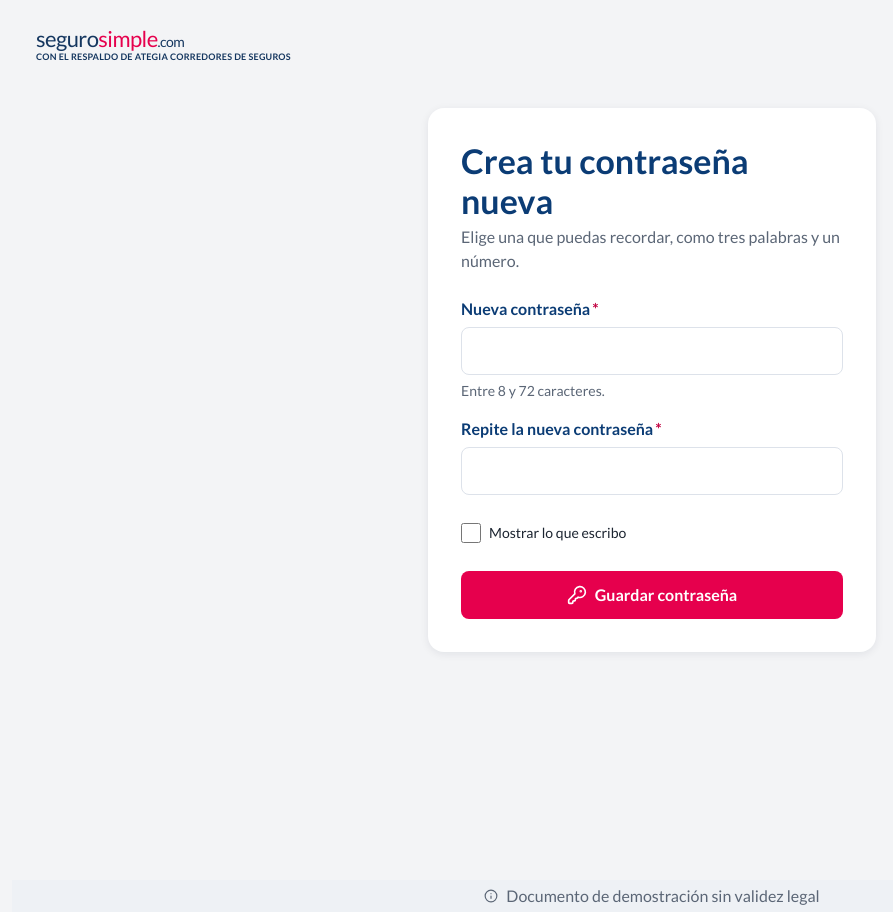
Test: RestablecerPasswordPage › con un enlace bueno pide la contraseña nueva, la guarda y quita las llaves de la dirección
Type "Casa-Verde-Lluvia-26" into the password field labelled "Nueva contraseña*".
click(652, 351); type("Casa-Verde-Lluvia-26")  # box [461, 327, 843, 375]
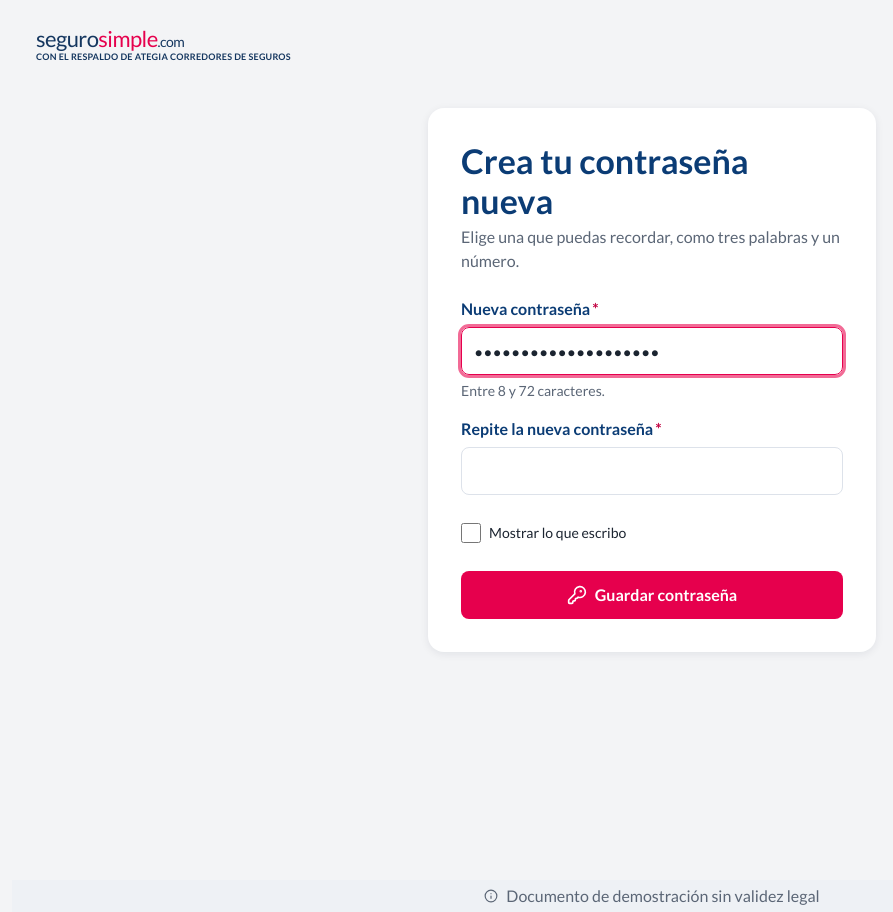
Type "Casa-Verde-Lluvia-26" into the password field labelled "Repite la nueva contraseña*".
click(652, 471); type("Casa-Verde-Lluvia-26")  # box [461, 447, 843, 495]
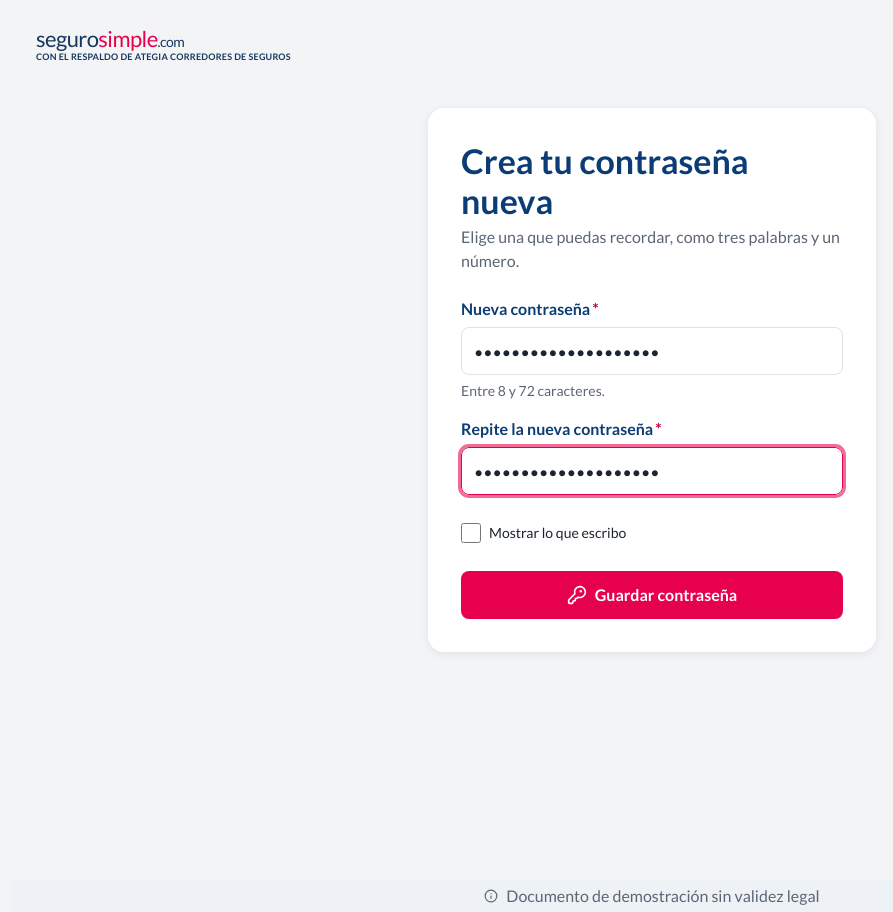
Click the button "Guardar contraseña".
click(652, 595)  # box [461, 571, 843, 619]
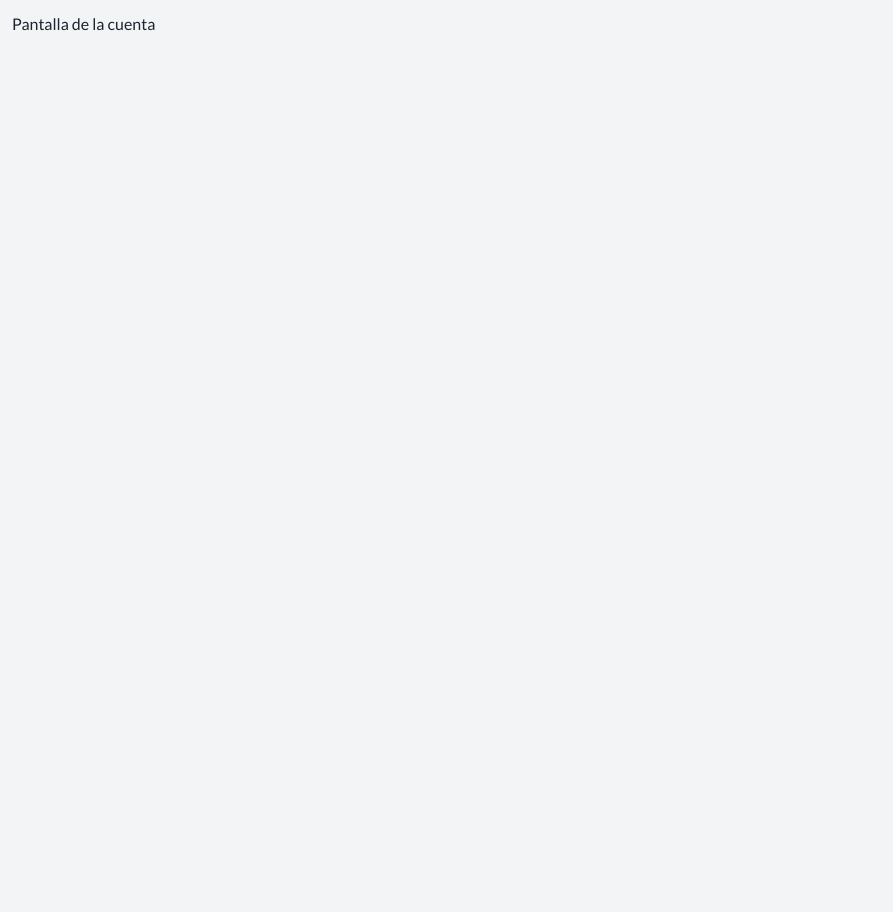
Check: the text "Pantalla de la cuenta" is shown, box [12, 14, 155, 33]
